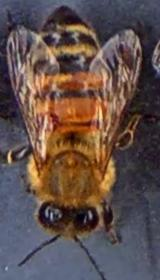varroa_mite: (31, 102, 60, 133)
